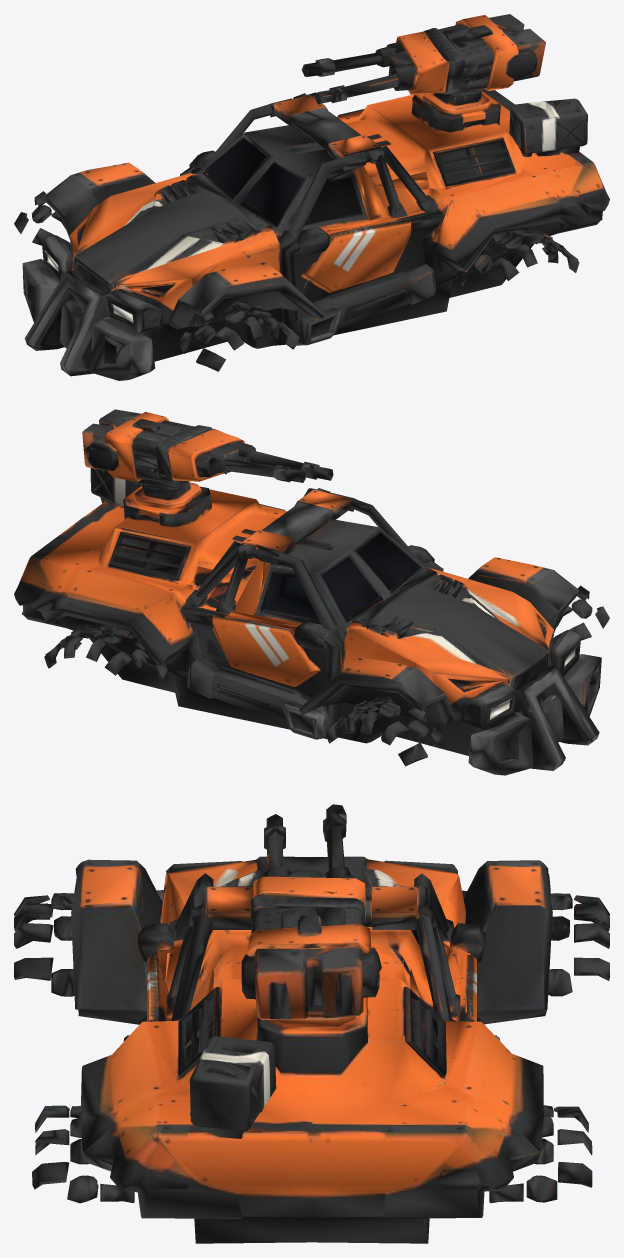
Rendered from Raptor_Raider_Complete.fbx.
3 renders of one model, top to bottom at view 1: azimuth 30°, elevation 25°; view 2: azimuth 150°, elevation 25°; view 3: azimuth 270°, elevation 25°, orthographic. The views are drawn at different scales.
Visible parts, largest first — view 1: Chassis, Gun_Turret; view 2: Chassis, Gun_Turret; view 3: Chassis, Gun_Turret.
Part boxes in pixels (x1=…): Chassis: x1=14, y1=90, x2=609, y2=380; Gun_Turret: x1=301, y1=14, x2=545, y2=132; Chassis: x1=14, y1=468, x2=609, y2=775; Gun_Turret: x1=82, y1=409, x2=333, y2=527; Chassis: x1=14, y1=856, x2=609, y2=1243; Gun_Turret: x1=241, y1=804, x2=381, y2=1074.
Bounding box in the file's own units: 95.61 × 40.97 × 64.7.
Materials: 1 (1 with a texture image).
